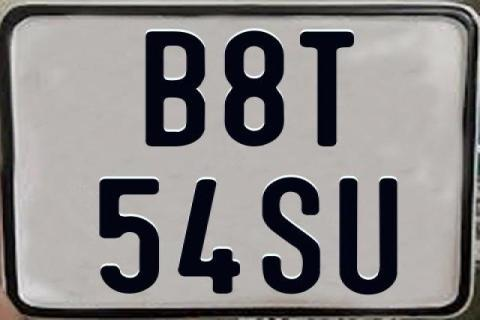0: (96, 177, 162, 297), (222, 29, 287, 147), (176, 178, 240, 294)
B: (146, 29, 206, 147)
S: (259, 177, 320, 296)
T: (297, 30, 352, 146)
U: (338, 176, 398, 293)
